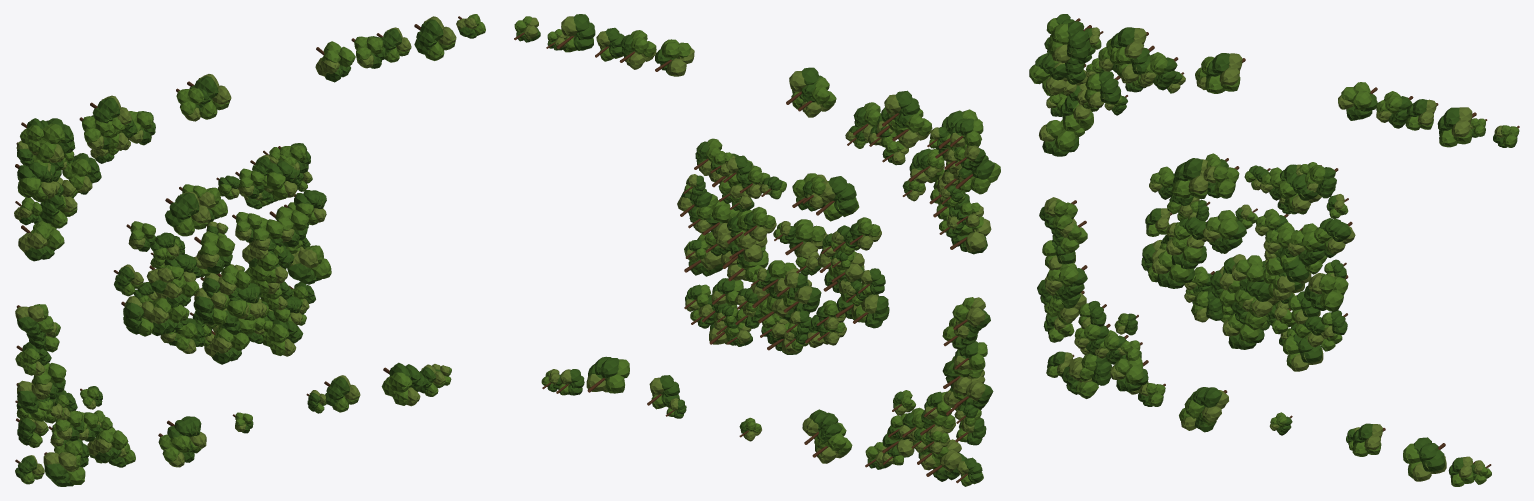
The model's file is broadleaf_clusters.obj.
3 views of the same model, side by side, from view 1: azimuth 30°, elevation 25°; view 2: azimuth 150°, elevation 25°; view 3: azimuth 330°, elevation 25° (orthographic).
Visible parts, largest first — view 1: broadleaf_clusters; view 2: broadleaf_clusters; view 3: broadleaf_clusters.
Part boxes in pixels (<box>): broadleaf_clusters: <box>14,14,485,486</box>; broadleaf_clusters: <box>514,14,1000,486</box>; broadleaf_clusters: <box>1029,14,1519,486</box>.
Size of the model in its own units: 75.97 by 59.35 by 10.28.
